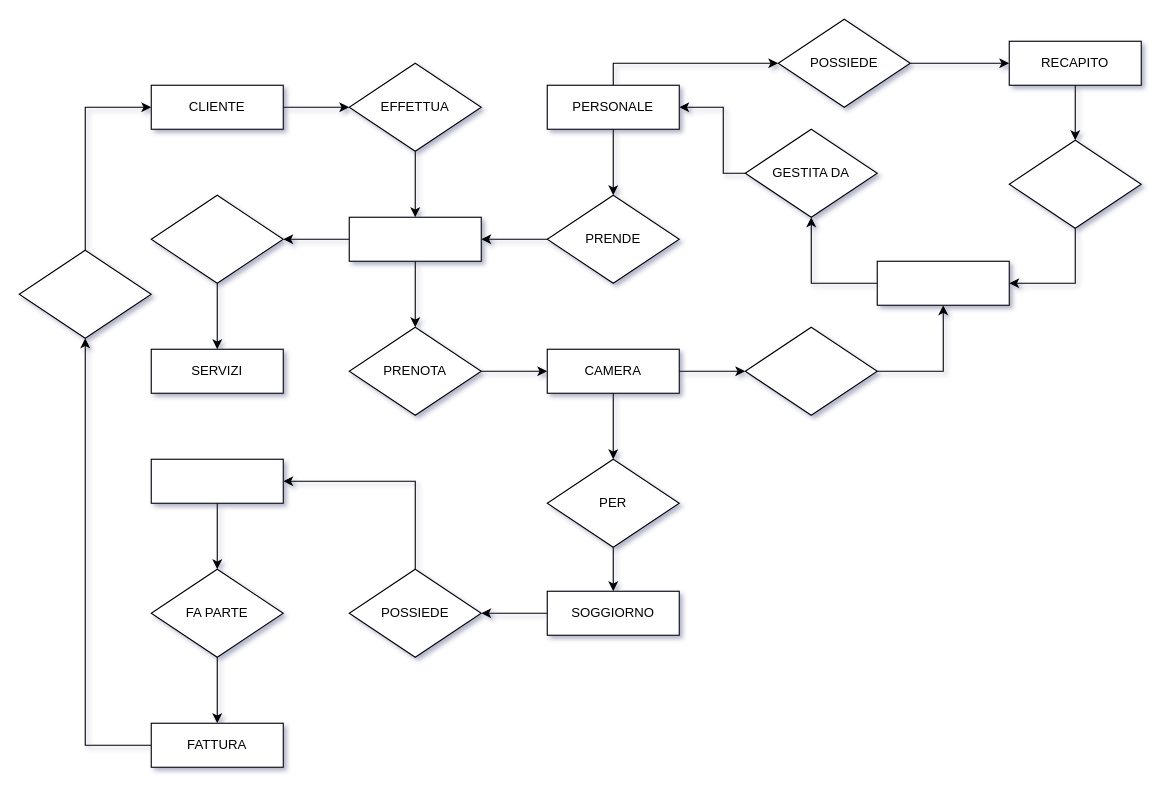
This 1167x793 diagram has some shape labels left out. The shapes that lost their labels are listed below. From the top down, each one's centre as x and y in pixels, then its label:
point (1074, 183): SI RIFERISCE
point (216, 238): SELEZIONA
point (414, 238): RICHIESTA
point (84, 293): PAGATA DA
point (942, 282): SEDE
point (810, 370): SITUATA
point (216, 480): COSTO
